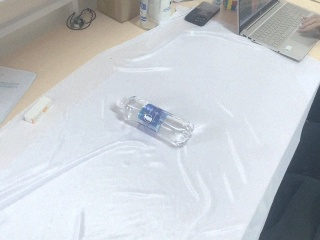bottle: (111, 96, 195, 148), (140, 1, 162, 30)
box: (96, 1, 140, 23)
phone: (184, 1, 220, 27)
